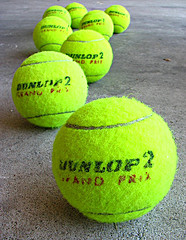tennis ball: (51, 95, 177, 222), (10, 50, 87, 129), (60, 29, 114, 82), (32, 15, 73, 51), (79, 10, 113, 40), (104, 4, 130, 33), (41, 5, 71, 27), (65, 2, 87, 29)
